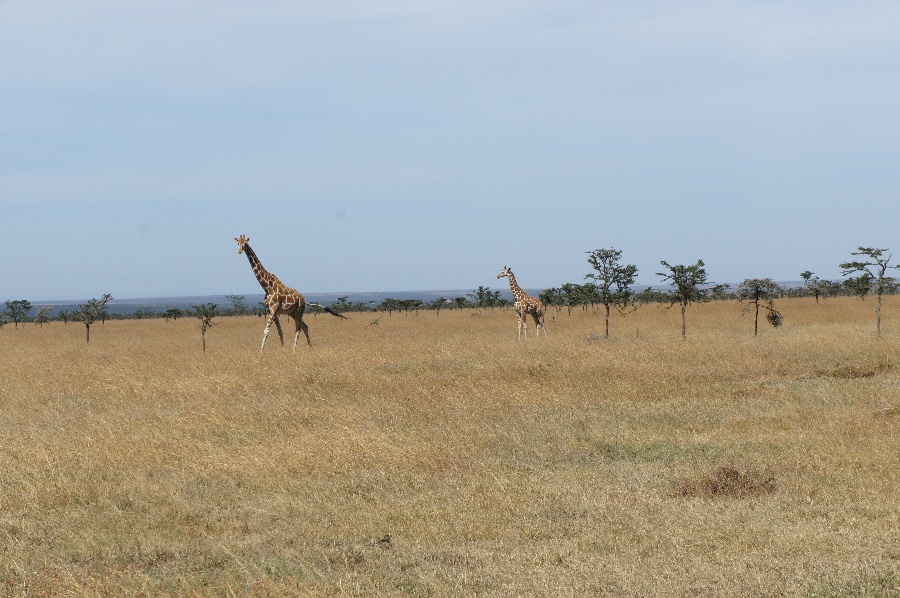giraffe: (226, 225, 321, 356), (493, 260, 550, 344)
